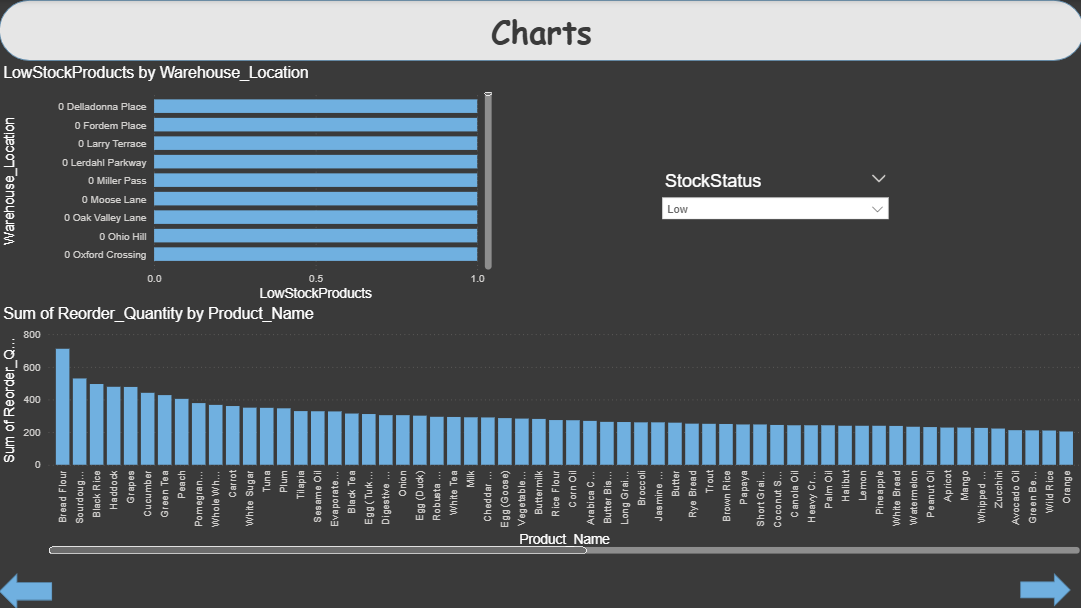

This screenshot's page, from the dashboard's own definition file:
{"tool":"powerbi","page":{"name":"Charts","canvas":[1280,720],"ordinal":5},"visuals":[{"type":"shape","box":[0,0,1280.6,71.7],"z":0},{"type":"clusteredBarChart","fields":{"Y":["Grocery_Inventory.LowStockProducts"],"Category":["Grocery_Inventory.Warehouse_Location"]},"box":[0,75.8,586.4,284.8],"z":1000},{"type":"clusteredColumnChart","fields":{"Category":["Grocery_Inventory.Product_Name"],"Y":["Sum(Grocery_Inventory.Reorder_Quantity)"]},"box":[0,360.6,1280.6,298.3],"z":2000},{"type":"slicer","fields":{"Values":["Grocery_Inventory.StockStatus"]},"box":[773.4,197.1,286.5,94.4],"z":3000},{"type":"shape","box":[1206,676.8,59.7,39.8],"z":4000},{"type":"shape","box":[0,676.8,63,43.1],"z":5000}]}

Visuals, with their boxes in screenshot pixels (x1, y1, x2, y2), scaled from the page's 1280x720 canvas onto the 1081x608 screenshot:
shape: (x1=0, y1=0, x2=1080, y2=61)
clusteredBarChart - Grocery_Inventory.LowStockProducts x Grocery_Inventory.Warehouse_Location: (x1=0, y1=64, x2=495, y2=305)
clusteredColumnChart - Grocery_Inventory.Product_Name x Sum(Grocery_Inventory.Reorder_Quantity): (x1=0, y1=305, x2=1080, y2=556)
slicer - Grocery_Inventory.StockStatus: (x1=653, y1=166, x2=895, y2=246)
shape: (x1=1019, y1=572, x2=1069, y2=605)
shape: (x1=0, y1=572, x2=53, y2=607)
